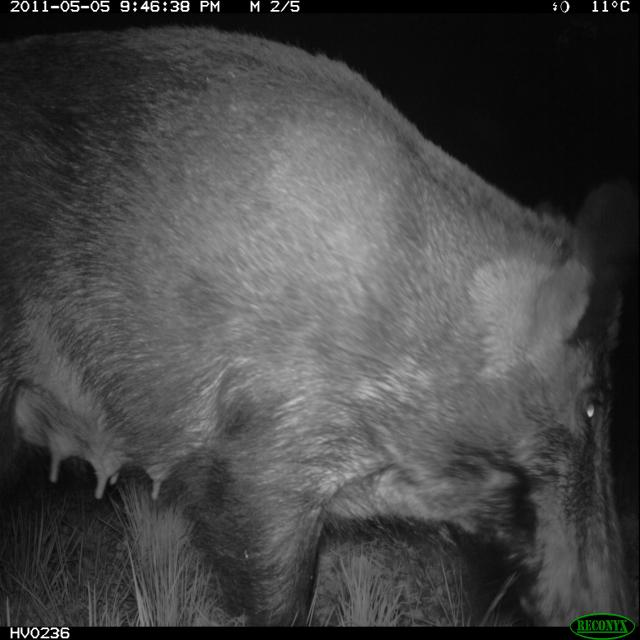boar: (0, 2, 640, 626)
